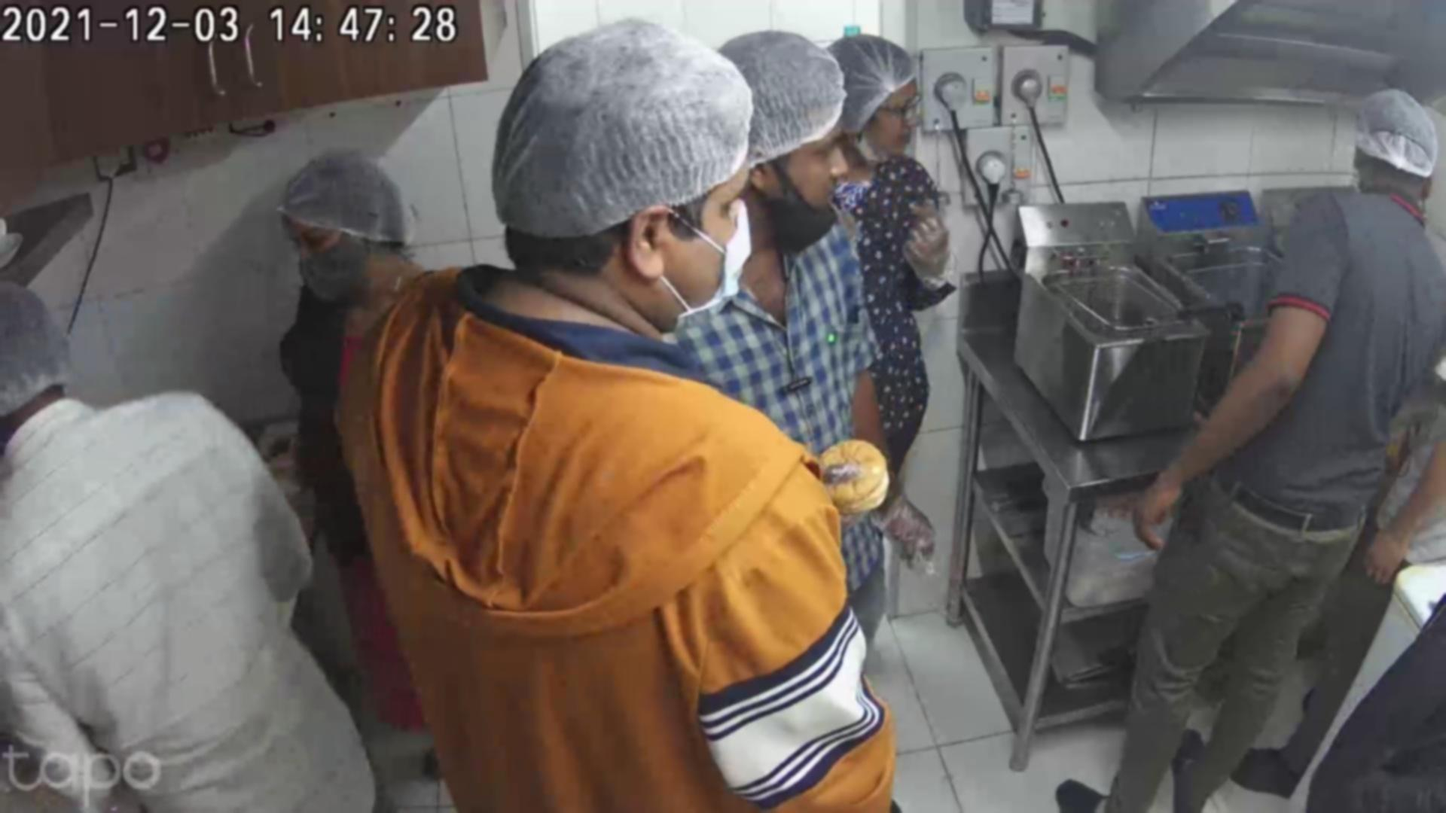apron: (892, 192, 970, 309), (874, 488, 950, 583)
gloves: (503, 18, 744, 274), (709, 16, 845, 173), (275, 139, 424, 262), (0, 262, 87, 440), (1341, 56, 1446, 202), (822, 18, 920, 145)
mask: (292, 230, 368, 297)
no_apron: (1126, 452, 1198, 562), (1359, 498, 1426, 600)
no_hairnet: (782, 130, 851, 219), (877, 90, 917, 154)
